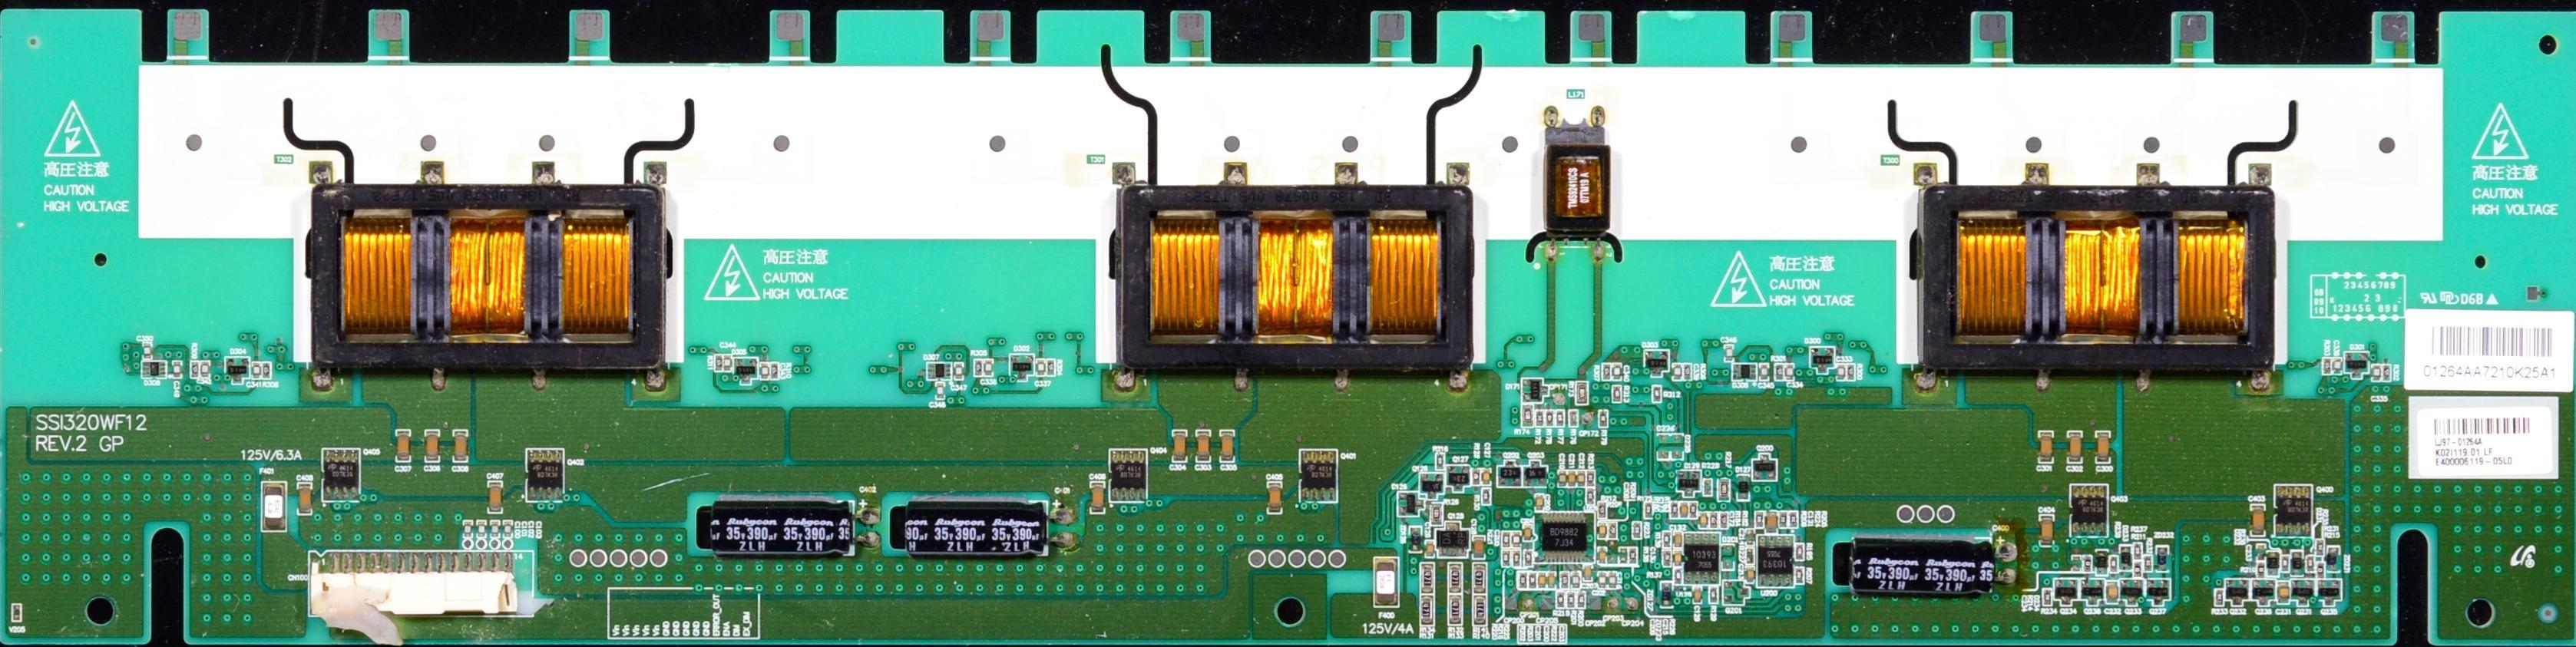Capacitor: (1826, 530, 1996, 599), (881, 491, 1051, 561), (689, 494, 856, 560), (486, 477, 504, 512), (425, 428, 441, 464), (298, 481, 313, 517), (1219, 430, 1235, 463), (395, 429, 411, 464), (2095, 431, 2110, 464), (2068, 432, 2083, 466), (1172, 431, 1187, 464), (1196, 430, 1210, 464), (454, 431, 468, 464), (2040, 432, 2055, 463), (1090, 482, 1105, 514), (2039, 516, 2053, 547), (2250, 505, 2265, 536), (1268, 480, 1281, 513), (1473, 536, 1486, 560), (1765, 510, 1776, 533), (2278, 582, 2290, 604), (2106, 581, 2118, 605), (2332, 358, 2343, 376), (983, 358, 993, 376), (1837, 364, 1846, 382), (1760, 364, 1770, 382), (1784, 364, 1794, 383), (464, 520, 473, 537), (1037, 360, 1047, 376), (759, 363, 769, 380), (954, 363, 962, 380), (1482, 469, 1491, 486), (1523, 525, 1533, 543), (1425, 540, 1435, 557), (724, 354, 732, 371), (2373, 365, 2381, 383), (478, 520, 486, 538), (491, 521, 500, 539), (1673, 530, 1681, 548), (1598, 548, 1607, 566), (1672, 550, 1680, 568), (1679, 502, 1689, 518), (1599, 520, 1605, 540), (937, 382, 944, 398), (1577, 470, 1585, 487), (1567, 470, 1576, 487), (1558, 471, 1566, 487), (504, 521, 513, 537), (2257, 544, 2265, 560), (1745, 567, 1754, 583), (1547, 573, 1556, 590), (1724, 345, 1733, 362), (1693, 586, 1701, 605), (1699, 513, 1708, 527), (1539, 571, 1546, 589), (253, 362, 260, 378), (1536, 493, 1542, 513), (1585, 566, 1589, 579)
Connector: (308, 550, 518, 620)
IC: (1756, 533, 1794, 587), (1683, 530, 1718, 585)
Resistor: (1447, 563, 1464, 593), (1472, 563, 1487, 595), (1472, 596, 1486, 627), (1448, 596, 1462, 626), (1421, 563, 1433, 594), (1422, 596, 1434, 626), (1576, 381, 1589, 405), (1522, 404, 1535, 427), (1718, 479, 1730, 501), (1431, 502, 1442, 524), (2306, 554, 2316, 574), (1633, 521, 1645, 539), (2042, 589, 2052, 607), (261, 361, 271, 380), (1846, 363, 1857, 381), (1790, 510, 1798, 528), (1780, 510, 1789, 529), (1609, 522, 1618, 540), (1566, 591, 1575, 609), (1578, 592, 1586, 609), (1048, 358, 1056, 378), (1703, 480, 1713, 497), (1483, 488, 1491, 503), (1645, 501, 1653, 521), (2083, 556, 2092, 572), (2109, 556, 2117, 574), (1794, 566, 1803, 585), (1556, 409, 1564, 427), (1599, 410, 1607, 428), (1719, 511, 1726, 530), (1795, 543, 1804, 560), (1630, 546, 1638, 563), (2144, 555, 2153, 573), (1674, 569, 1682, 586), (1599, 571, 1606, 589), (2215, 589, 2223, 607), (1556, 590, 1564, 607), (1775, 364, 1784, 381), (1614, 385, 1621, 401), (1652, 385, 1662, 403), (1569, 410, 1577, 427), (1473, 469, 1480, 487), (1587, 470, 1596, 486), (1586, 488, 1593, 503), (1709, 512, 1717, 528), (1501, 531, 1510, 547), (2316, 540, 2324, 556), (1524, 550, 1533, 567), (1662, 550, 1670, 567), (1513, 551, 1522, 568), (2257, 561, 2266, 579), (2316, 562, 2324, 579), (1609, 571, 1617, 588), (1519, 572, 1526, 589), (1572, 572, 1580, 589), (2383, 365, 2390, 384), (1437, 454, 1443, 470), (1512, 533, 1520, 547), (1745, 548, 1753, 563), (1528, 573, 1536, 588), (1560, 573, 1569, 589), (2323, 358, 2329, 375), (974, 359, 981, 378), (1599, 501, 1605, 519), (1671, 501, 1678, 520), (1756, 511, 1762, 528), (1663, 531, 1669, 549), (2135, 543, 2141, 560), (1710, 586, 1718, 605), (714, 355, 722, 371), (1691, 502, 1697, 520), (1503, 550, 1510, 567), (2282, 556, 2288, 572), (771, 362, 778, 378), (2134, 561, 2141, 577), (1536, 413, 1543, 426), (1547, 410, 1553, 427)
Transistor: (322, 447, 364, 503), (524, 448, 564, 503), (1109, 448, 1147, 504), (1299, 451, 1338, 503), (2071, 484, 2108, 536), (2275, 488, 2313, 536)
